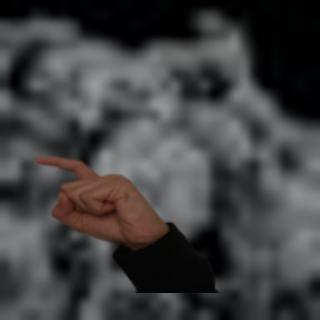WHY: (30, 149, 165, 243)
